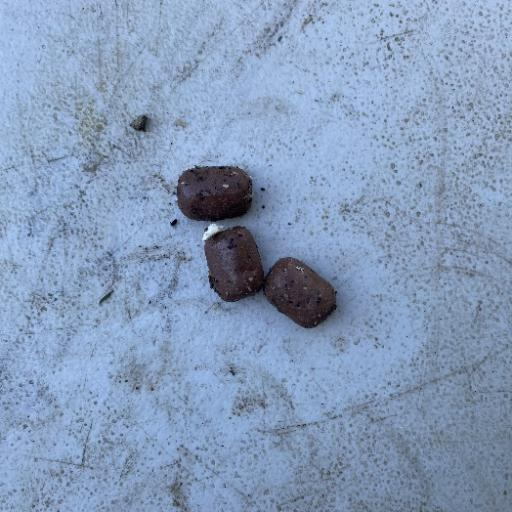Waste: (173, 163, 339, 329), (262, 255, 338, 329), (201, 224, 264, 303), (174, 163, 253, 222)
